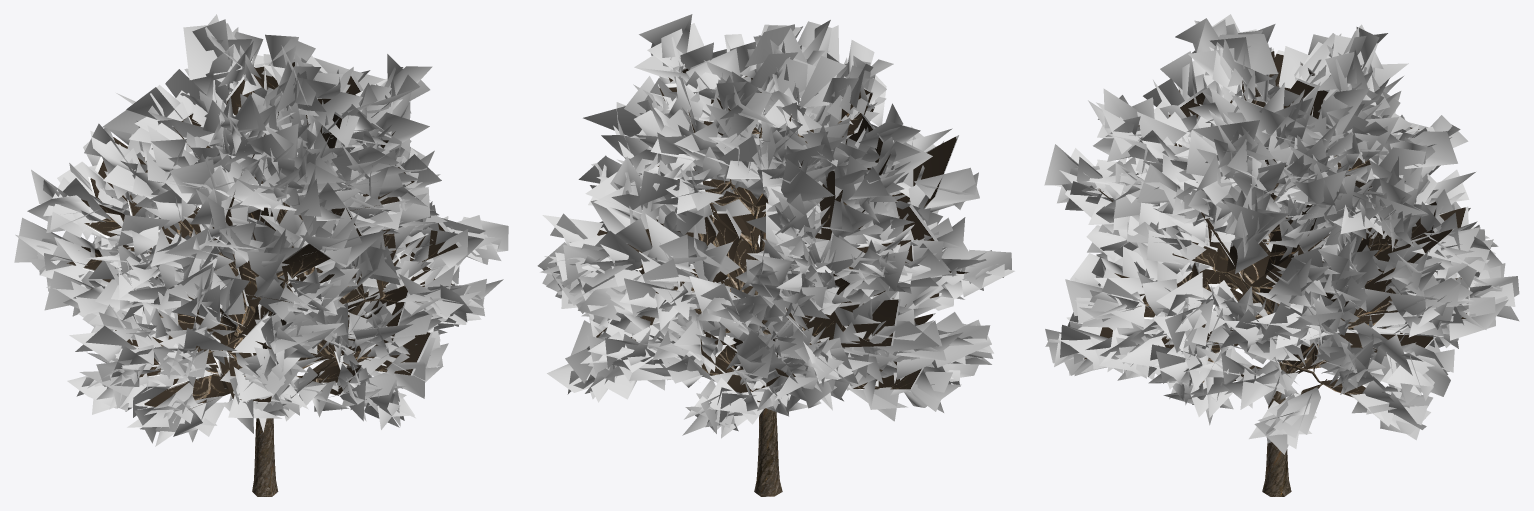
Rendered from readytree2.fbx.
3 renders of one model, left to right at view 1: azimuth 30°, elevation 25°; view 2: azimuth 150°, elevation 25°; view 3: azimuth 270°, elevation 25°, orthographic. The views are drawn at different scales.
Visible parts, largest first — view 1: Bark_9.002, Leaf_6.1151, Leaf_6.2205, Leaf_6.4326, Leaf_6.4331, Leaf_6.4282, Leaf_6.1182, Leaf_6.4308, Leaf_6.955, Leaf_6.1680, Leaf_6.2175, Leaf_6.1785 (+59 smaller); view 2: Bark_9.002, Leaf_6.4292, Leaf_6.1165, Leaf_6.1115, Leaf_6.1625, Leaf_6.4246, Leaf_6.1760, Leaf_6.1005, Leaf_6.1090, Leaf_6.1070, Leaf_6.1135, Leaf_6.4263 (+60 smaller); view 3: Bark_9.002, Leaf_6.2240, Leaf_6.1135, Leaf_6.1360, Leaf_6.945, Leaf_6.2158, Leaf_6.1565, Leaf_6.965, Leaf_6.1081, Leaf_6.1384, Leaf_6.1309, Leaf_6.1000 (+50 smaller).
Boxes of the visible parts, x1,y1,x2,y2 form: Bark_9.002: (210,209,396,496); Leaf_6.1151: (183,23,242,79); Leaf_6.2205: (313,92,362,147); Leaf_6.4326: (143,375,230,409); Leaf_6.4331: (298,286,408,368); Leaf_6.4282: (281,243,330,283); Leaf_6.1182: (169,159,214,205); Leaf_6.4308: (311,332,432,375); Leaf_6.955: (247,123,298,159); Leaf_6.1680: (14,217,73,262); Leaf_6.2175: (375,112,429,150); Leaf_6.1785: (386,358,425,398); Bark_9.002: (725,127,802,496); Leaf_6.4292: (804,299,900,347); Leaf_6.1165: (914,167,979,208); Leaf_6.1115: (781,159,834,203); Leaf_6.1625: (869,321,939,352); Leaf_6.4246: (892,135,958,207); Leaf_6.1760: (963,249,1011,288); Leaf_6.1005: (583,100,648,141); Leaf_6.1090: (799,56,846,108); Leaf_6.1070: (639,14,692,59); Leaf_6.1135: (638,171,705,205); Leaf_6.4263: (666,164,741,277); Bark_9.002: (1207,239,1397,496); Leaf_6.2240: (1204,34,1278,75); Leaf_6.1135: (1404,131,1457,168); Leaf_6.1360: (1379,147,1425,189); Leaf_6.945: (1231,95,1285,144); Leaf_6.2158: (1267,387,1320,434); Leaf_6.1565: (1449,297,1495,340); Leaf_6.965: (1137,163,1180,204); Leaf_6.1081: (1230,162,1286,198); Leaf_6.1384: (1412,227,1480,263); Leaf_6.1309: (1156,272,1202,313); Leaf_6.1000: (1293,170,1346,207).
Bounding box in the file's own units: 7011 × 7539 × 7012.
